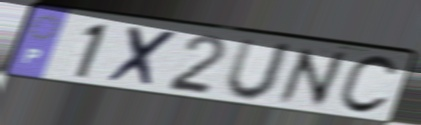1: (71, 22, 111, 81)
2: (166, 33, 230, 97)
C: (334, 54, 401, 117)
N: (274, 46, 349, 109)
U: (222, 36, 297, 104)
X: (103, 24, 182, 91)
